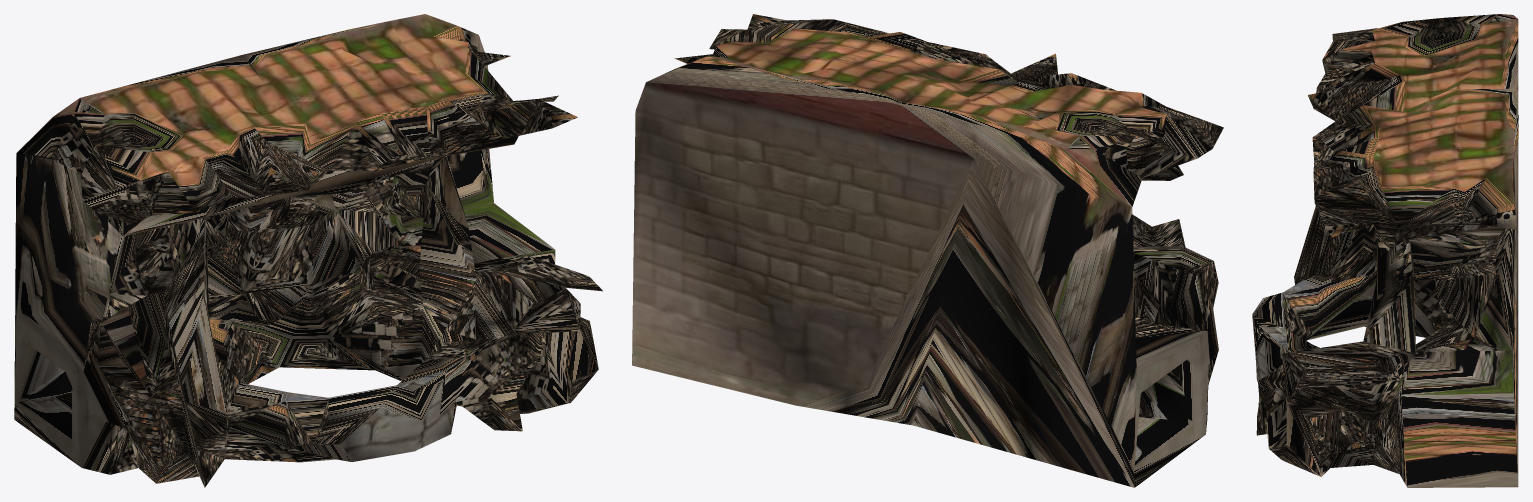
The model's file is meshy_well_covered_planks_lod1.glb.
The picture shows the model from 3 angles, left to right: view 1: azimuth 30°, elevation 25°; view 2: azimuth 150°, elevation 25°; view 3: azimuth 270°, elevation 25°; orthographic projection. The views are drawn at different scales.
Bounding box in the file's own units: 4.1 × 2.58 × 2.14.
1 material, 1 textured.
